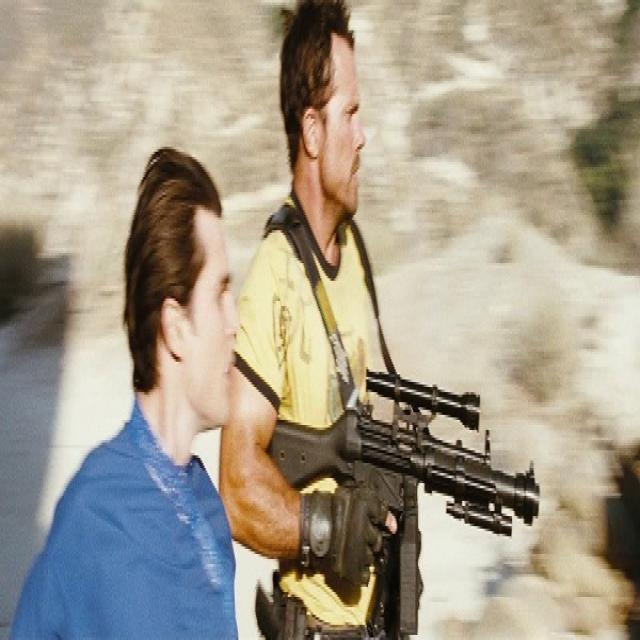rifle: (270, 368, 550, 640)
